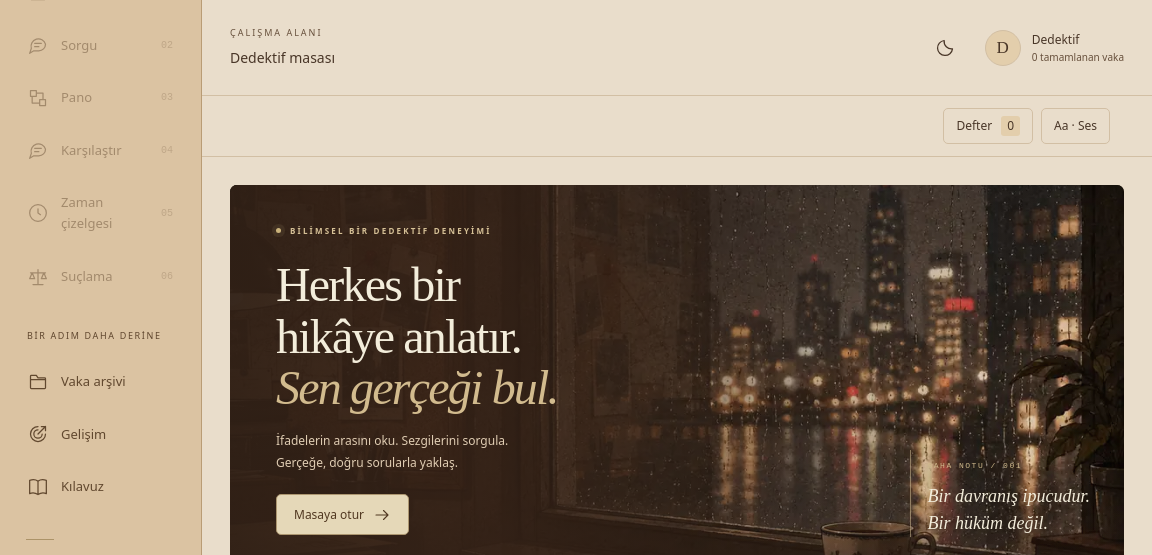
kılavuz araması Türkçe harflerle çalışır ve boş sonuç bildirir
(page scrolled)
Click the button "Kılavuz".
click(100, 487)  # box 14,463 -> 187,510
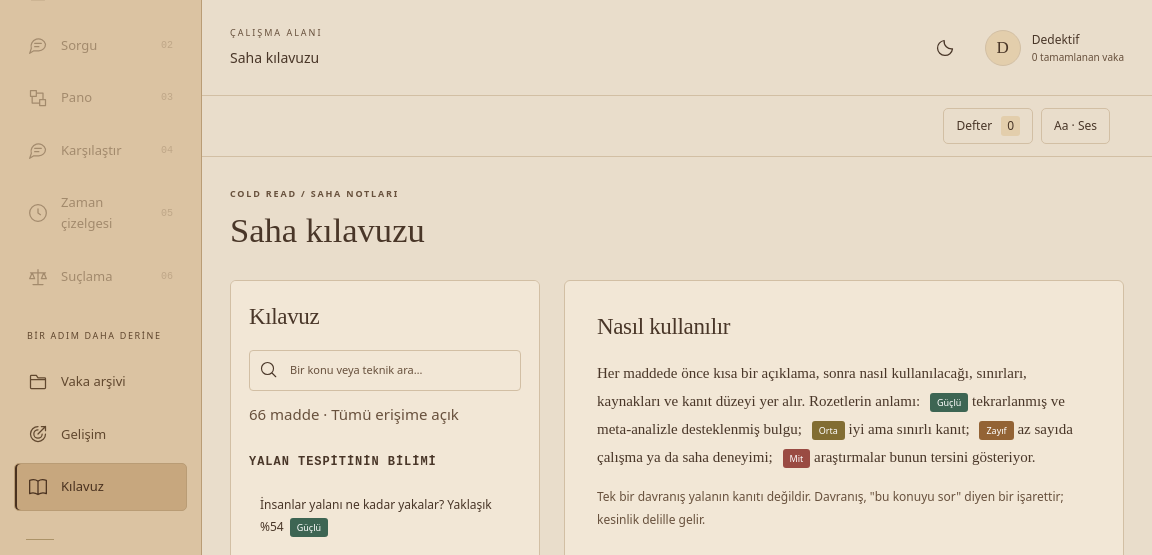
Type "TEMEL ÇİZGİ" into the search field named "Kılavuzda ara".
click(399, 370); type("TEMEL ÇİZGİ")  # box 278,351 -> 520,390
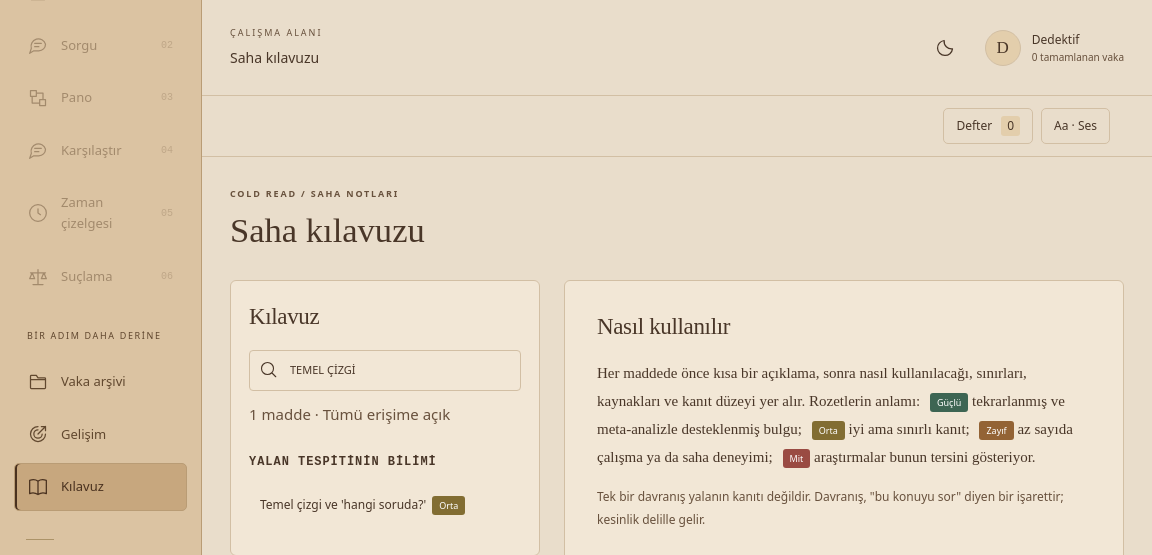
Now the button "Temel çizgi ve 'hangi soruda?' Orta" is shown, box 249,483 -> 521,527
Replace the text in the search field named "Kılavuzda ara" with "olmayanbaşlıkxyz" at [399, 370], box 278,351 -> 520,390
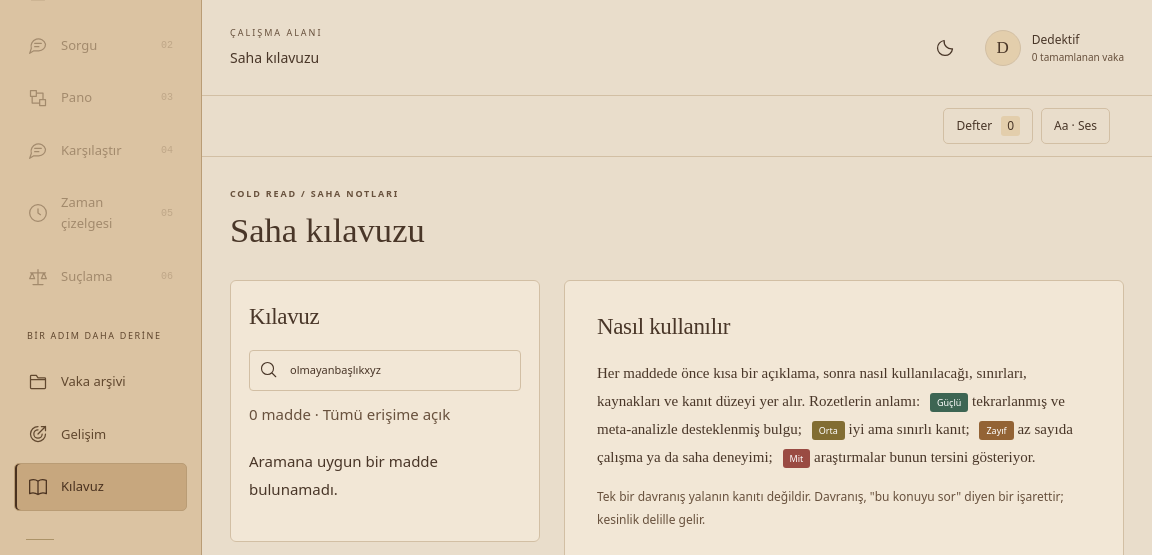
Now the text "Aramana uygun bir madde bulunamadı." is shown, box 249,451 -> 438,499
